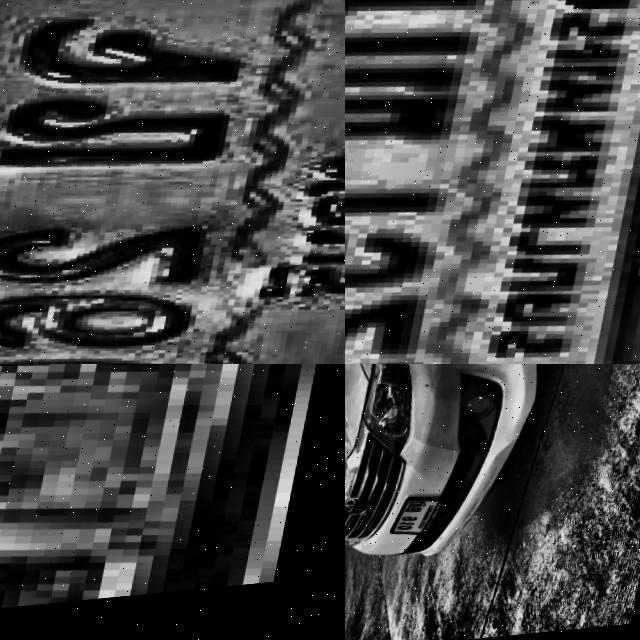license-plate: (0, 0, 345, 364), (345, 0, 640, 364), (0, 364, 345, 634), (398, 499, 457, 547)
